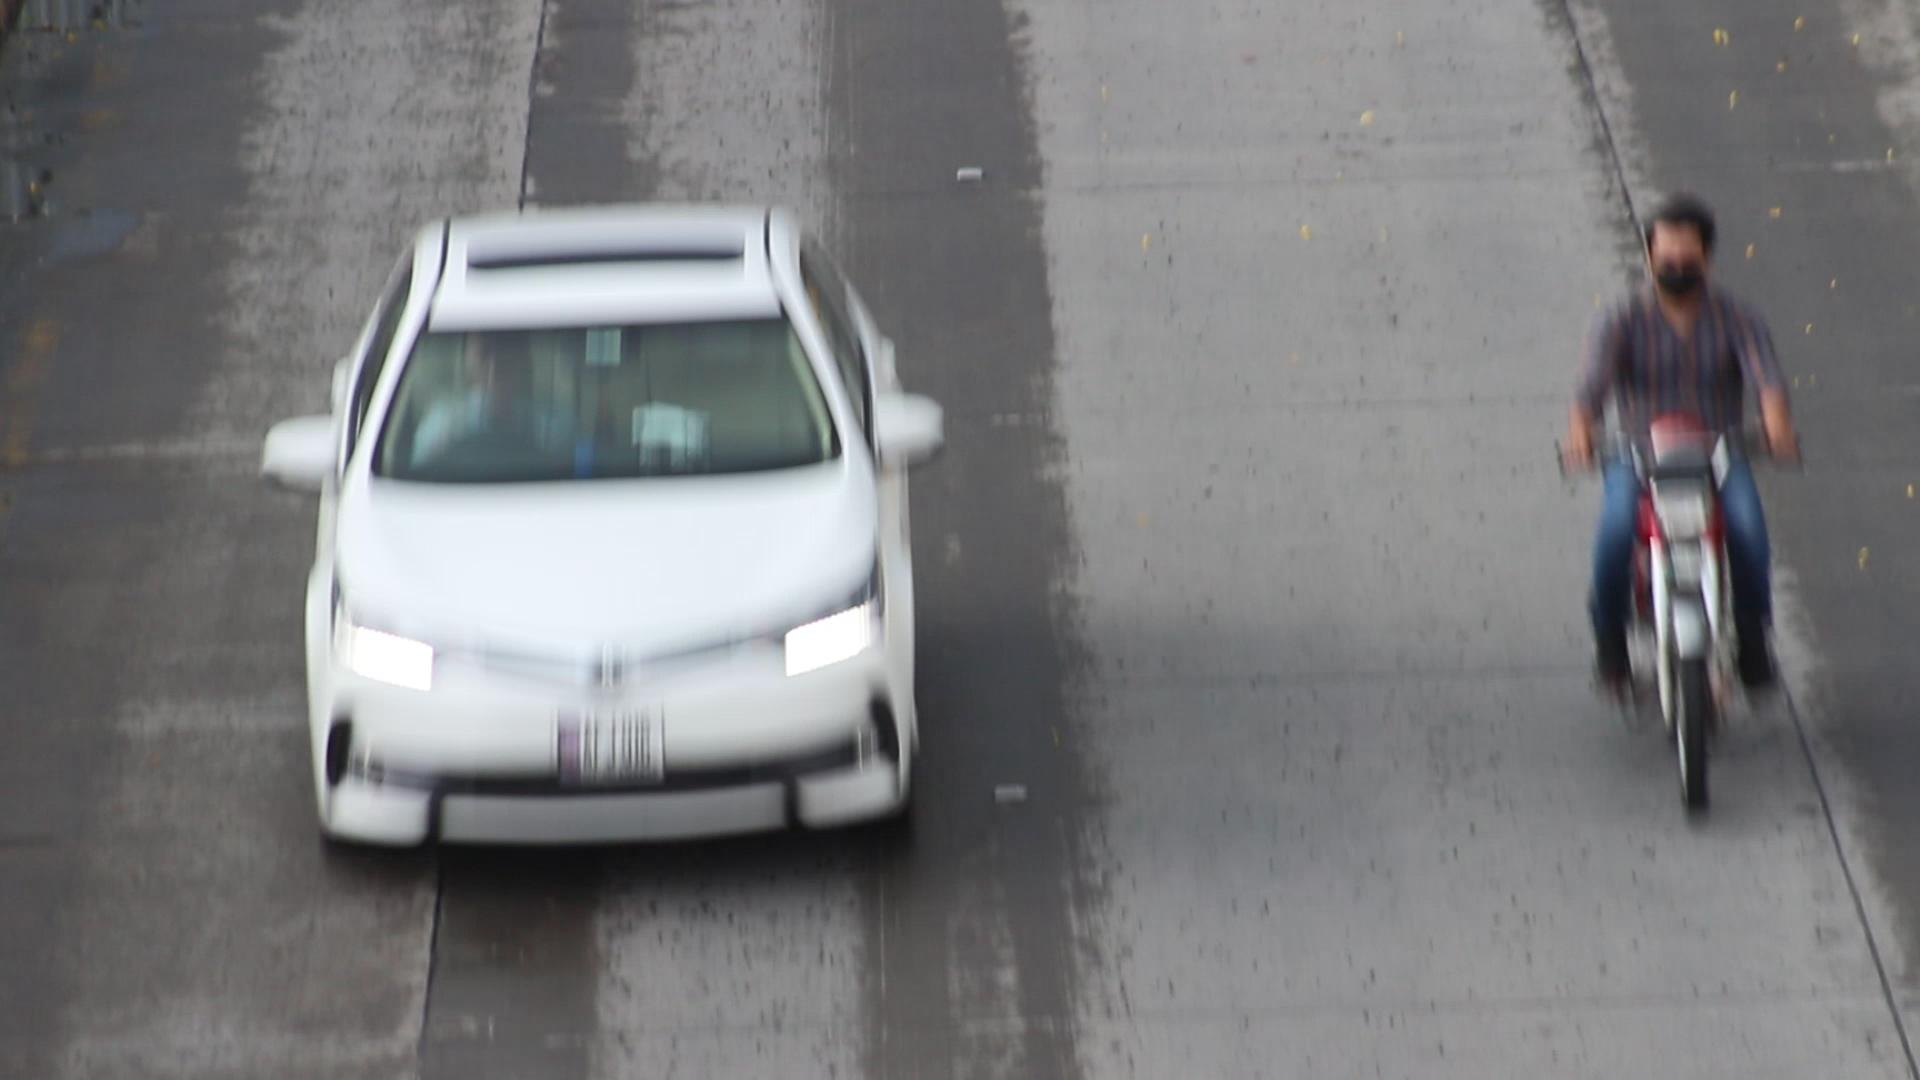windshield: (377, 303, 840, 476)
